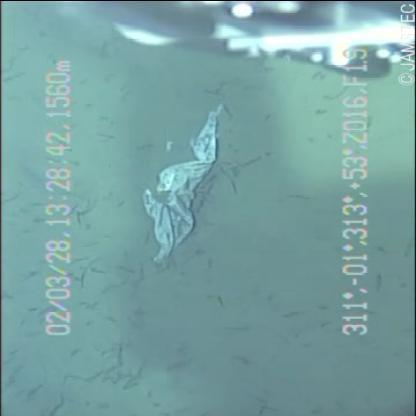Rác: (110, 99, 242, 283)
